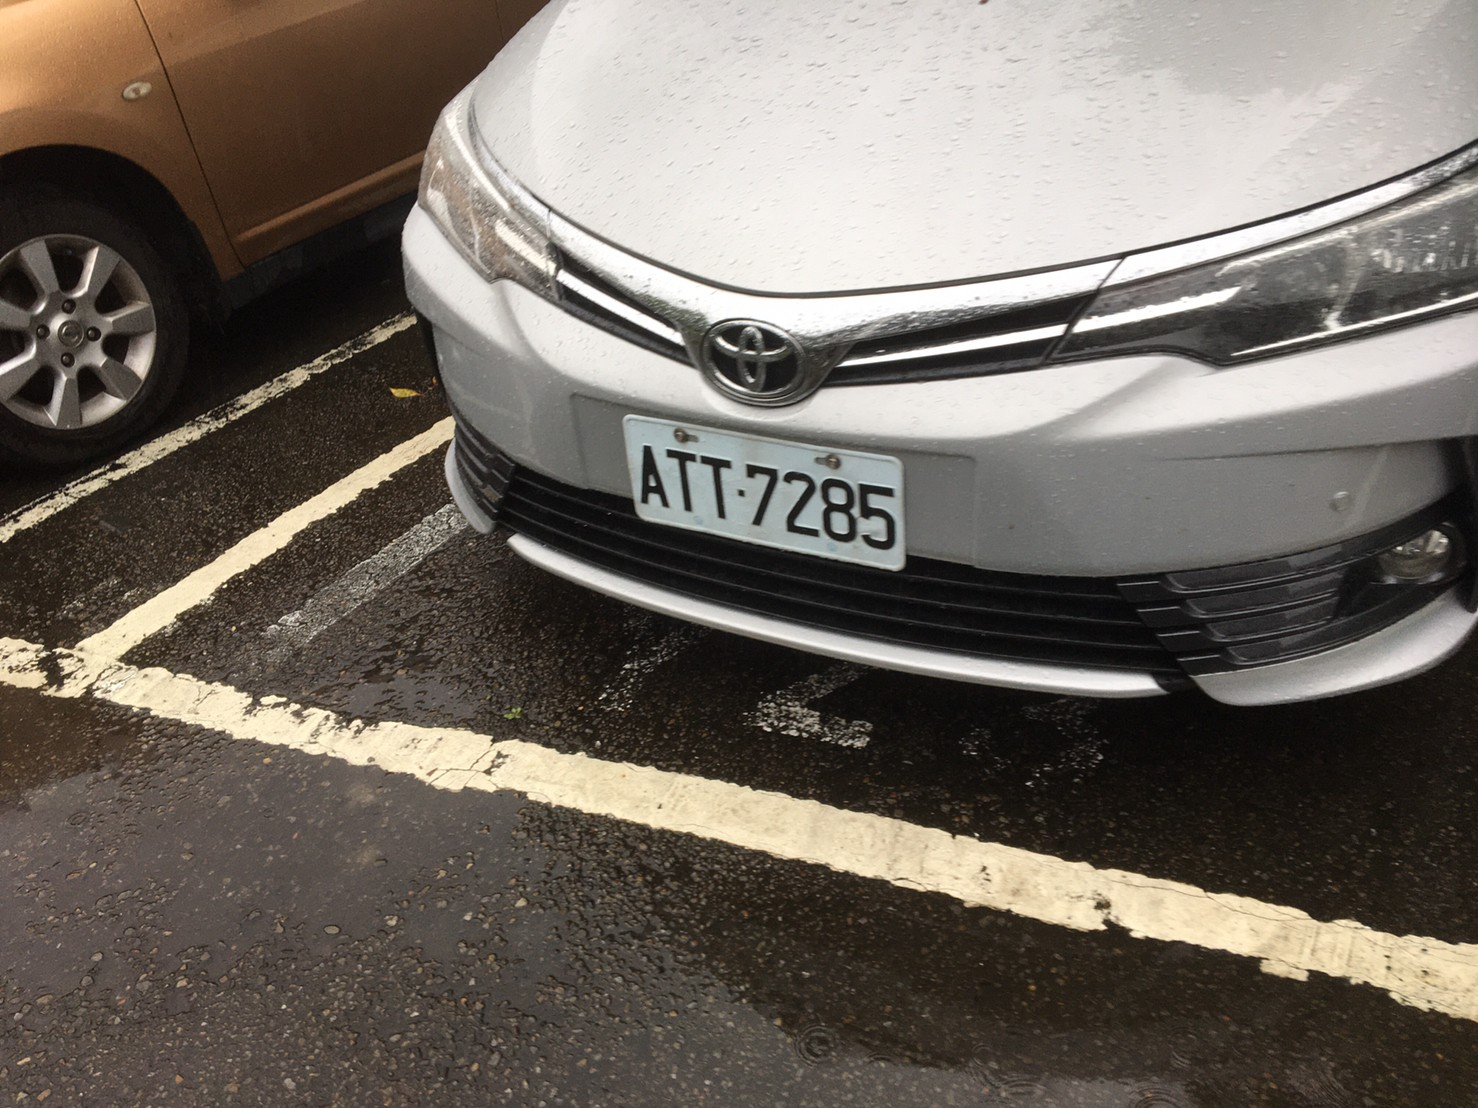LP: (621, 409, 905, 573)
